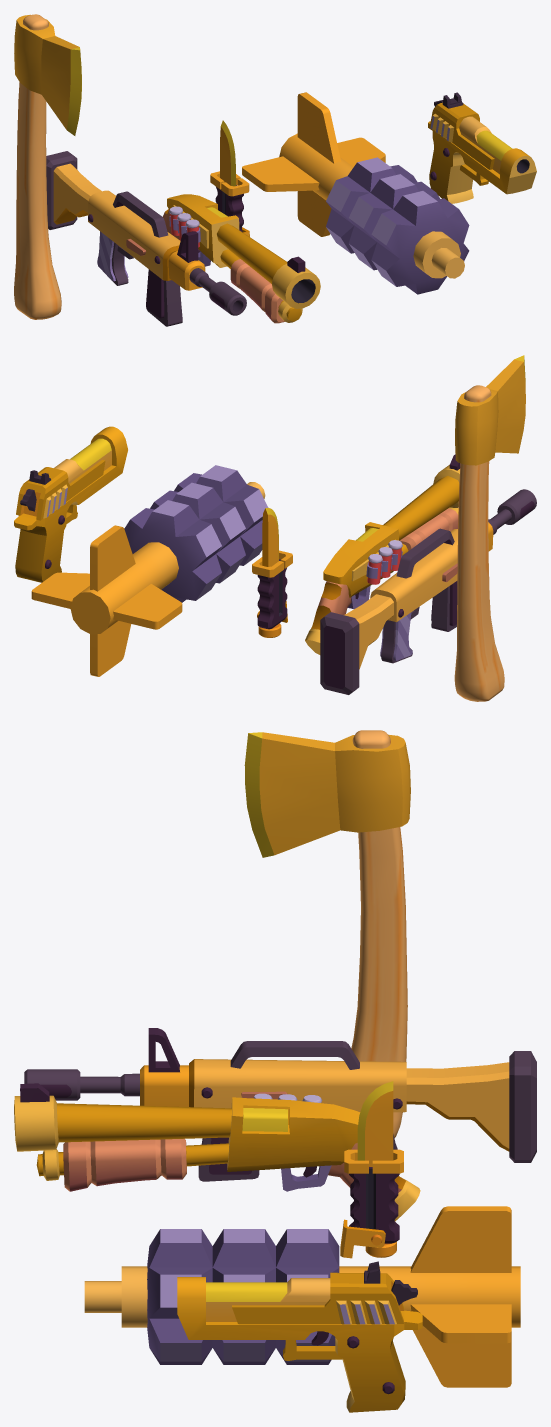
Rendered from gold weapon.fbx.
The picture shows the model from 3 angles, top to bottom: view 1: azimuth 30°, elevation 25°; view 2: azimuth 150°, elevation 25°; view 3: azimuth 270°, elevation 25°; orthographic projection. The views are drawn at different scales.
Parts seen in each view (by area): view 1: Bomb02_mesh, Axe_mesh, Rifle04_mesh, Shotgun03_mesh, Pistol01_mesh, Knife02_mesh; view 2: Bomb02_mesh, Axe_mesh, Rifle04_mesh, Shotgun03_mesh, Pistol01_mesh, Knife02_mesh; view 3: Bomb02_mesh, Axe_mesh, Shotgun03_mesh, Rifle04_mesh, Pistol01_mesh, Knife02_mesh.
Part boxes in pixels (<box>): Bomb02_mesh: <box>242,92,469,294</box>; Axe_mesh: <box>14,14,81,319</box>; Rifle04_mesh: <box>46,151,246,326</box>; Shotgun03_mesh: <box>163,194,320,323</box>; Pistol01_mesh: <box>428,92,536,203</box>; Knife02_mesh: <box>210,120,249,236</box>; Bomb02_mesh: <box>31,465,268,676</box>; Axe_mesh: <box>454,355,525,701</box>; Rifle04_mesh: <box>320,489,536,694</box>; Shotgun03_mesh: <box>305,454,460,654</box>; Pistol01_mesh: <box>14,426,127,582</box>; Knife02_mesh: <box>252,507,292,637</box>; Bomb02_mesh: <box>84,1206,520,1387</box>; Axe_mesh: <box>244,730,410,1137</box>; Shotgun03_mesh: <box>14,1083,420,1221</box>; Rifle04_mesh: <box>24,1028,536,1181</box>; Pistol01_mesh: <box>177,1261,422,1412</box>; Knife02_mesh: <box>340,1081,403,1258</box>.
Bounding box in the file's own units: 1.35 × 0.9077 × 0.9801.
